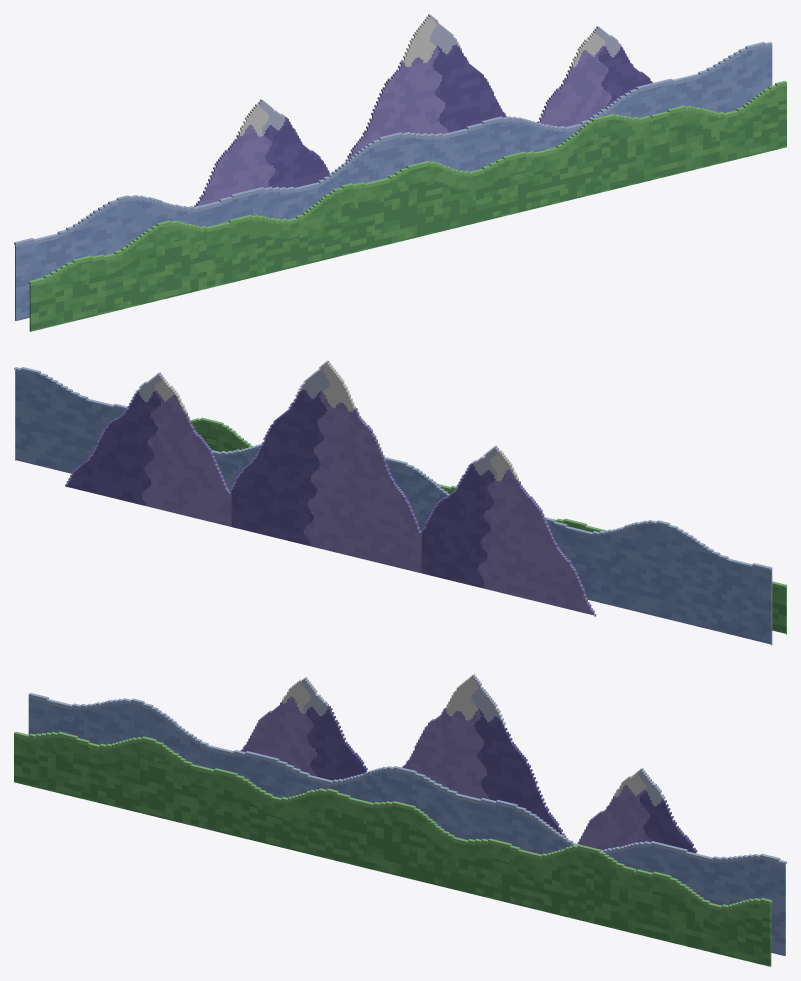
Rendered from backdrop_voxel_hills.glb.
3 renders of one model, top to bottom at view 1: azimuth 30°, elevation 25°; view 2: azimuth 150°, elevation 25°; view 3: azimuth 330°, elevation 25°, orthographic.
Parts seen in each view (by area): view 1: Hills.001; view 2: Hills.001; view 3: Hills.001.
Part boxes in pixels (x1,y1,x2,y2): Hills.001: (14,14,786,331); Hills.001: (14,360,786,645); Hills.001: (14,674,786,966).
Bounding box in the file's own units: 90 × 21.6 × 6.4.
